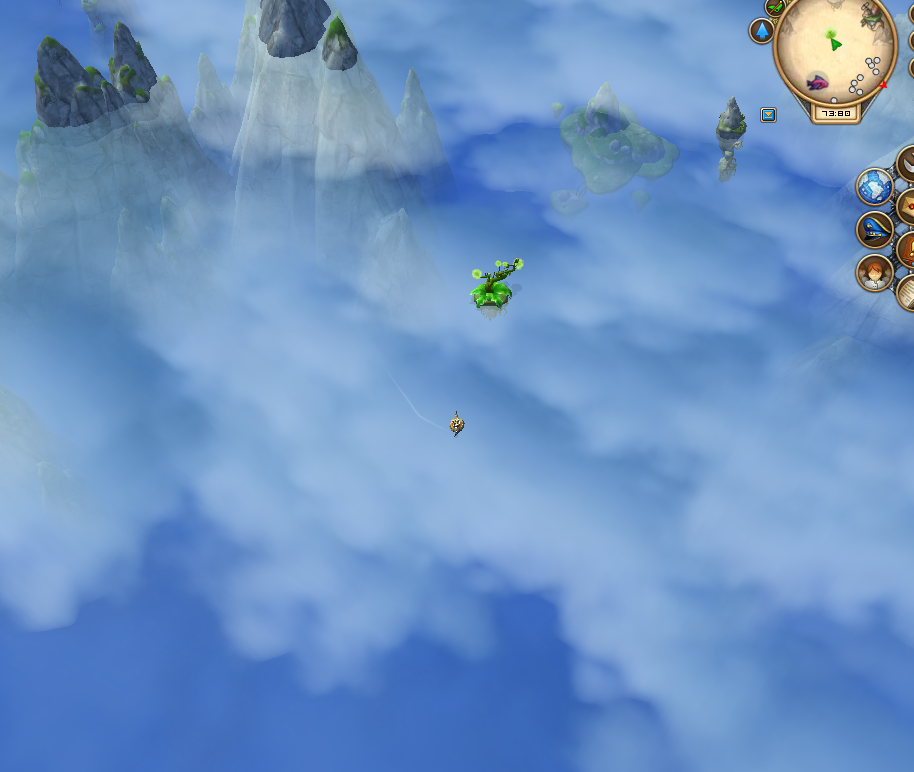dandelion-full: (462, 249, 530, 314)
